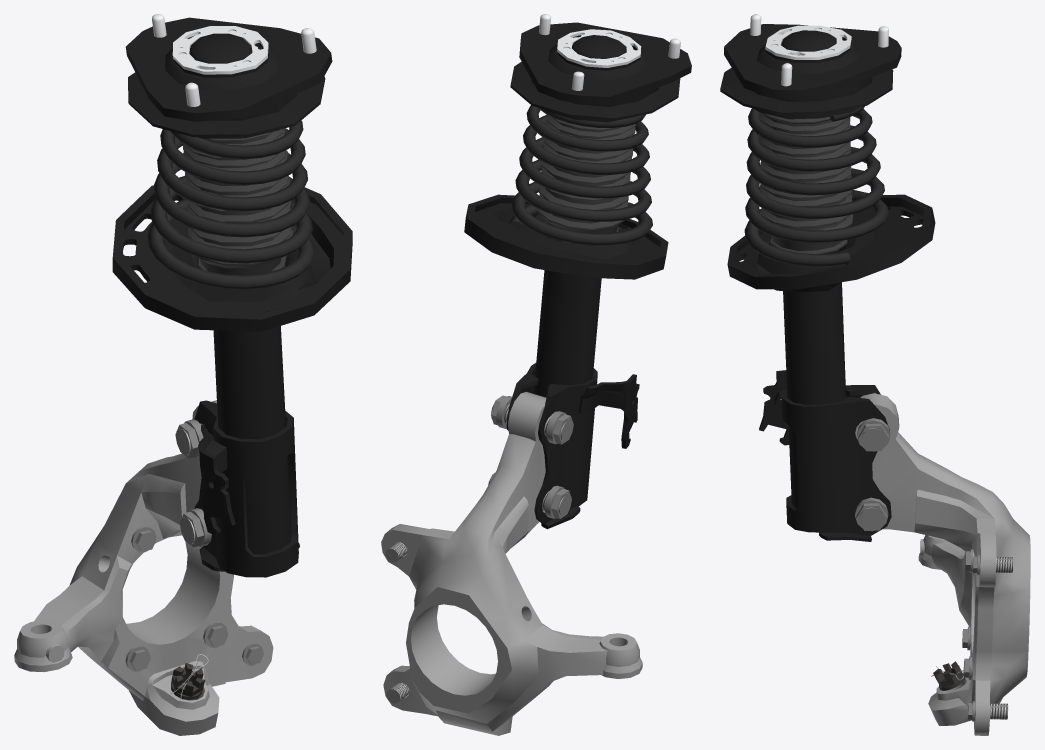
The model's file is E5_前减震器总成.FBX.
The picture shows the model from 3 angles, left to right: view 1: azimuth 30°, elevation 25°; view 2: azimuth 150°, elevation 25°; view 3: azimuth 270°, elevation 25°; orthographic projection. The views are drawn at different scales.
Parts seen in each view (by area): view 1: BYDQ_DP186, BYDQ_DP199, ZCXBBQTGDLM, BYDQ_DP207, BYDQ_DP206; view 2: BYDQ_DP186, BYDQ_DP199, BYDQ_DP206, BYDQ_DP207; view 3: BYDQ_DP186, BYDQ_DP199, BYDQ_DP206, BYDQ_DP207, ZCXBBQTGDLM.
Part boxes in pixels (<box>): BYDQ_DP186: <box>112,14,352,577</box>; BYDQ_DP199: <box>14,400,273,735</box>; ZCXBBQTGDLM: <box>171,663,204,700</box>; BYDQ_DP207: <box>180,508,211,547</box>; BYDQ_DP206: <box>175,419,206,458</box>; BYDQ_DP186: <box>464,14,691,529</box>; BYDQ_DP199: <box>381,391,642,735</box>; BYDQ_DP206: <box>491,395,573,444</box>; BYDQ_DP207: <box>488,472,571,518</box>; BYDQ_DP186: <box>720,14,935,541</box>; BYDQ_DP199: <box>855,393,1030,735</box>; BYDQ_DP206: <box>857,418,890,451</box>; BYDQ_DP207: <box>855,497,888,531</box>; ZCXBBQTGDLM: <box>933,661,964,690</box>.
Bounding box in the file's own units: 23.91 × 63.68 × 26.95.
7 materials, 3 textured.
